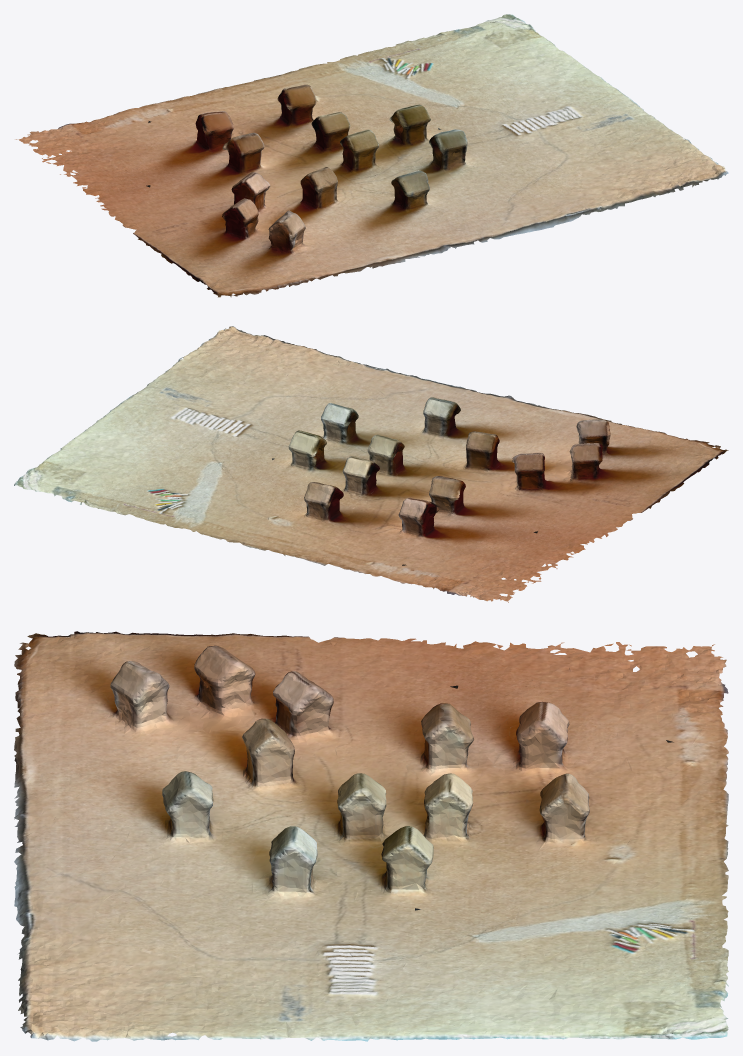
Rendered from scan_2.fbx.
The picture shows the model from 3 angles, top to bottom: view 1: azimuth 30°, elevation 25°; view 2: azimuth 150°, elevation 25°; view 3: azimuth 270°, elevation 25°; orthographic projection. The views are drawn at different scales.
Visible parts, largest first — view 1: Mesh_0; view 2: Mesh_0; view 3: Mesh_0.
Boxes of the visible parts, x1,y1,x2,y2 form: Mesh_0: [15, 14, 728, 297]; Mesh_0: [14, 326, 728, 602]; Mesh_0: [14, 631, 728, 1041].
Bounding box in the file's own units: 52.54 × 3.71 × 39.3.
Materials: 1 (1 with a texture image).
